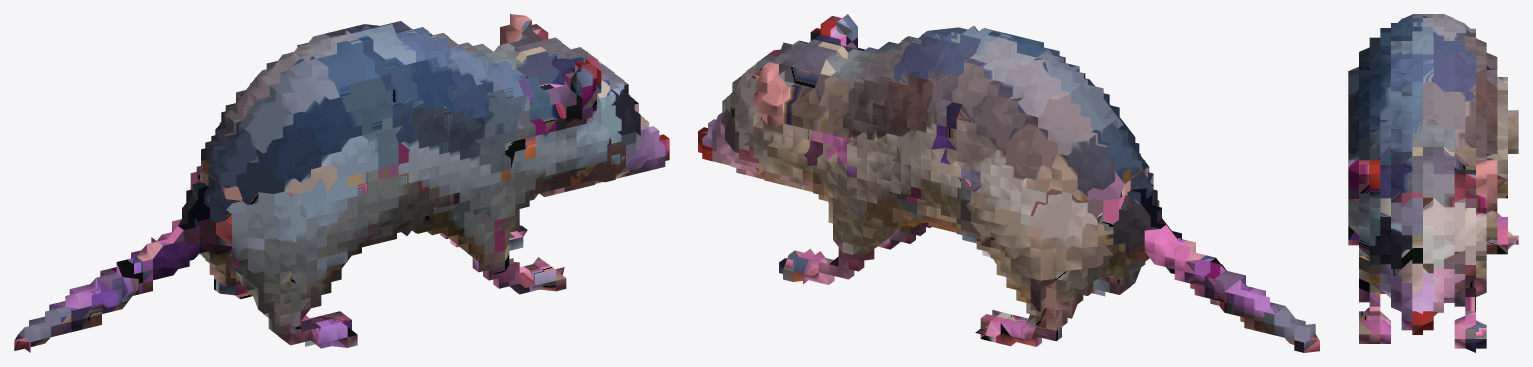
Rendered from simplified_possum.glb.
3 renders of one model, left to right at view 1: azimuth 30°, elevation 25°; view 2: azimuth 150°, elevation 25°; view 3: azimuth 270°, elevation 25°, orthographic. The views are drawn at different scales.
Visible parts, largest first — view 1: Mesh1; view 2: Mesh1; view 3: Mesh1.
Boxes of the visible parts, <box> form: Mesh1: <box>14,14,669,352</box>; Mesh1: <box>698,14,1319,352</box>; Mesh1: <box>1348,14,1518,352</box>.
Size of the model in its own units: 1.2 by 0.4762 by 0.3048.
Materials: 1 (1 with a texture image).
